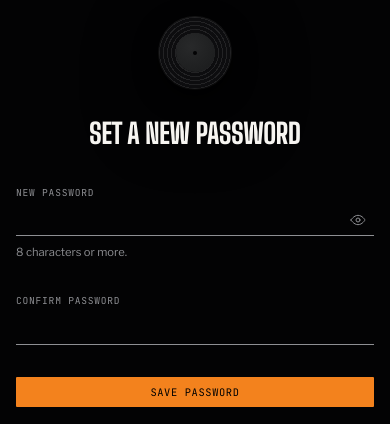
ResetPasswordRoute › a 401 (spent or expired token) shows the same calm link-failed state
This screenshot has width=390, height=424.
Type "long-enough-pw" into the password field labelled "new password".
click(195, 222); type("long-enough-pw")  # box [16,207,374,236]
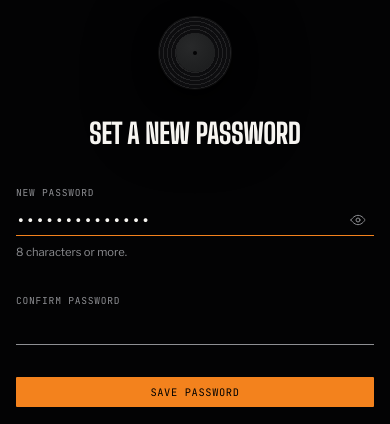
Type "long-enough-pw" into the password field labelled "confirm password".
click(195, 330); type("long-enough-pw")  # box [16,316,374,345]
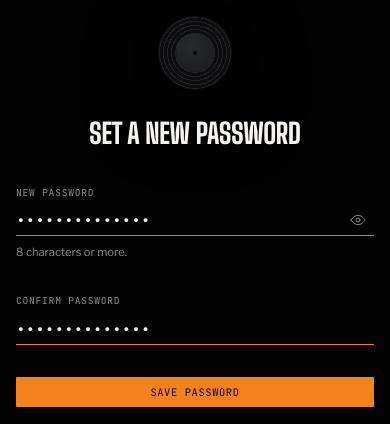
Click the button "save password".
click(195, 392)  # box [16,377,374,407]
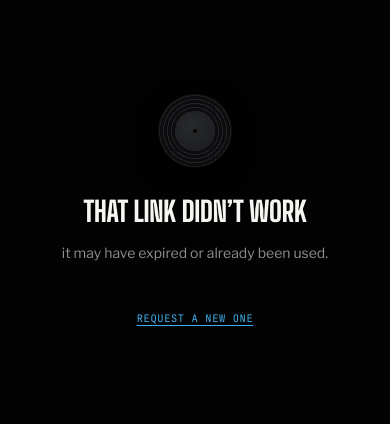
Expected: the heading "that link didn’t work" is shown, [84,194,306,228]
